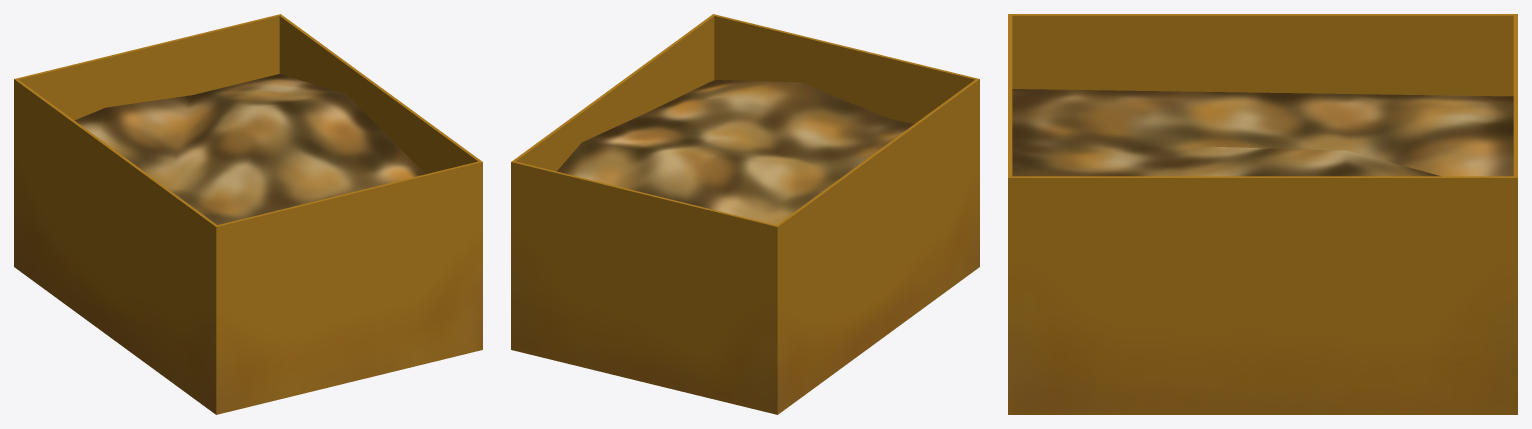
File: foodbox.FBX
3 views of the same model, side by side, from view 1: azimuth 30°, elevation 25°; view 2: azimuth 150°, elevation 25°; view 3: azimuth 270°, elevation 25° (orthographic). The views are drawn at different scales.
Visible parts, largest first — view 1: ｆｏｏｄｂｏｘ, surfaceobj; view 2: ｆｏｏｄｂｏｘ, surfaceobj; view 3: ｆｏｏｄｂｏｘ, surfaceobj.
Boxes of the visible parts, box(x1,y1,x2,y2) form: ｆｏｏｄｂｏｘ: box(14, 14, 482, 414); surfaceobj: box(75, 74, 425, 224); ｆｏｏｄｂｏｘ: box(511, 14, 979, 414); surfaceobj: box(557, 80, 913, 224); ｆｏｏｄｂｏｘ: box(1008, 14, 1517, 414); surfaceobj: box(1012, 89, 1513, 176).
Bounding box in the file's own units: 0.586 × 0.3947 × 0.7695.
Materials: 2 (2 with a texture image).
